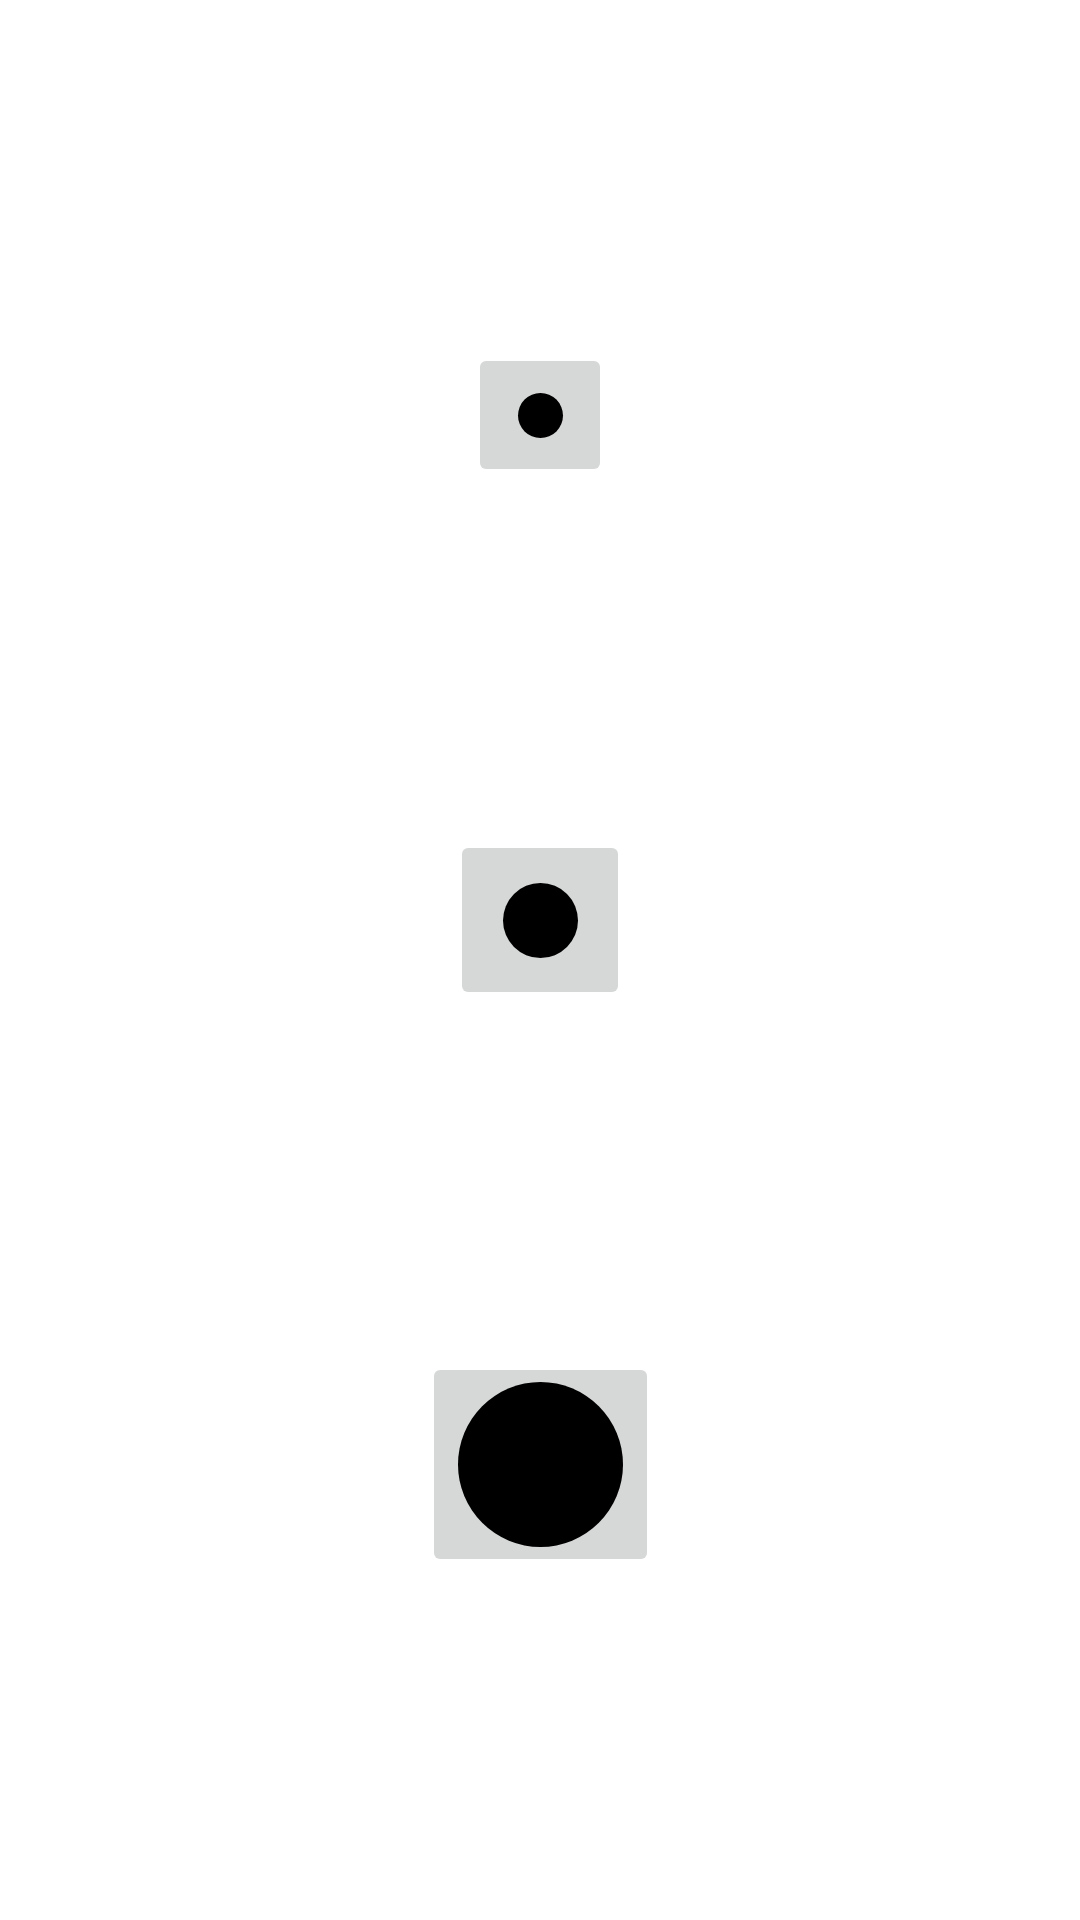

Locate icon controls on the screen. Image size 1080w x 1920h, boxes as (x1,y1,x2,y2).
medium: (462,848,618,992)
